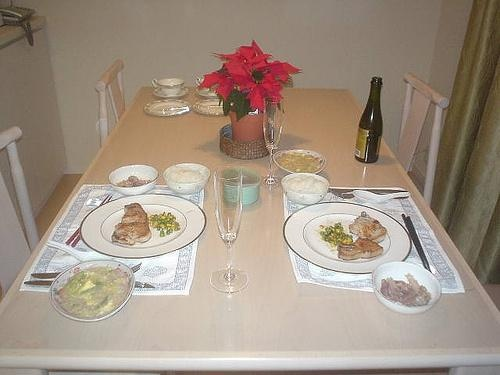bottle: (352, 70, 389, 167)
chair: (394, 67, 454, 219), (1, 118, 49, 305), (93, 54, 134, 153)
diningtable: (2, 82, 500, 375)
